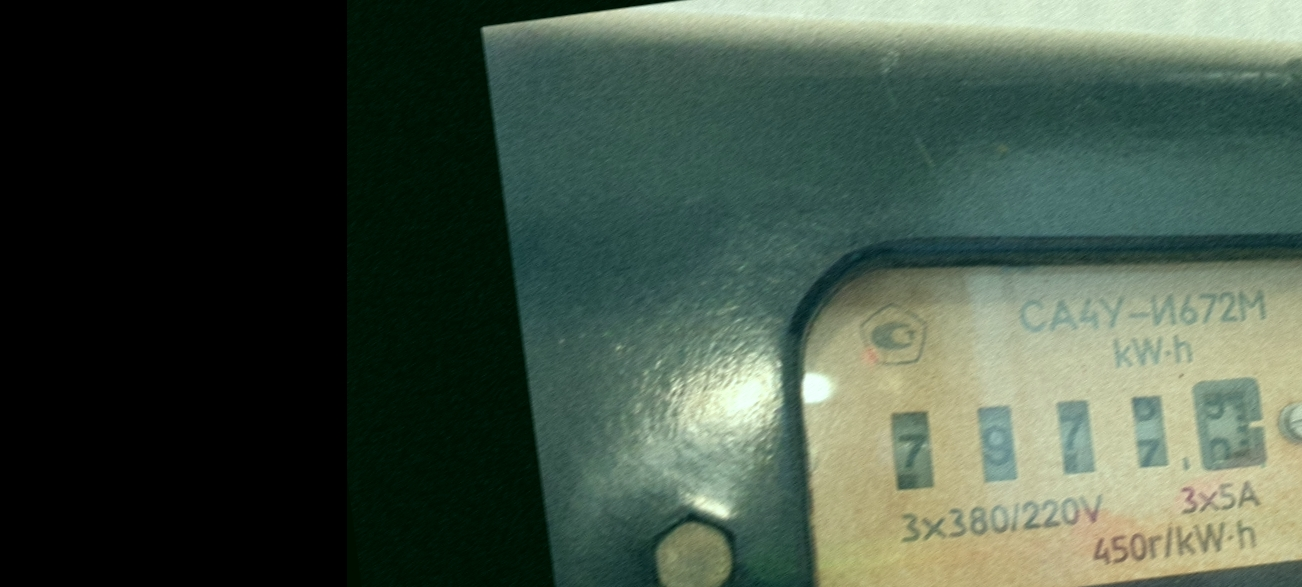0: (1207, 432, 1233, 464)
7: (893, 427, 932, 476), (1133, 428, 1168, 474), (1057, 410, 1091, 454)
9: (979, 420, 1015, 471), (1200, 388, 1233, 424)
screen: (873, 351, 1287, 529)
